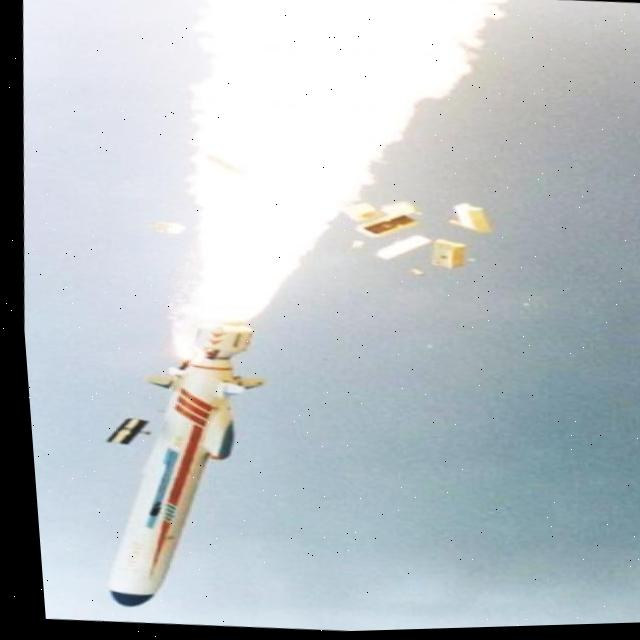missile: (81, 303, 272, 618)
